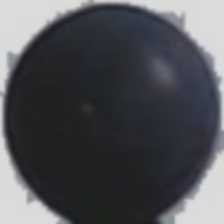grapes: (38, 27, 199, 208)
